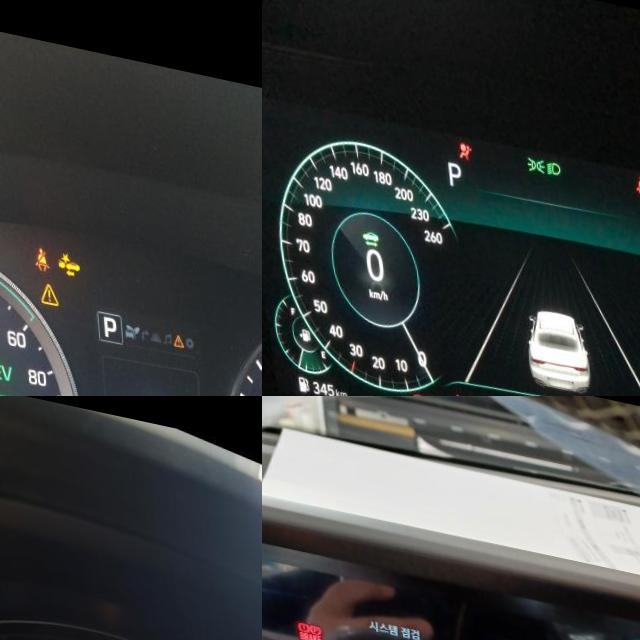Central Warning lamp: (36, 270, 55, 297)
Low beam: (543, 144, 558, 161)
SideLamp: (522, 140, 542, 160)
